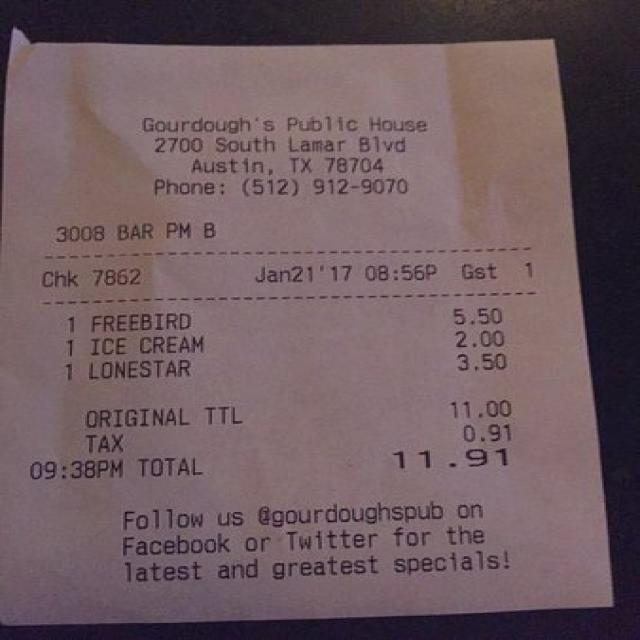TotalPrice: (114, 430, 537, 487)
